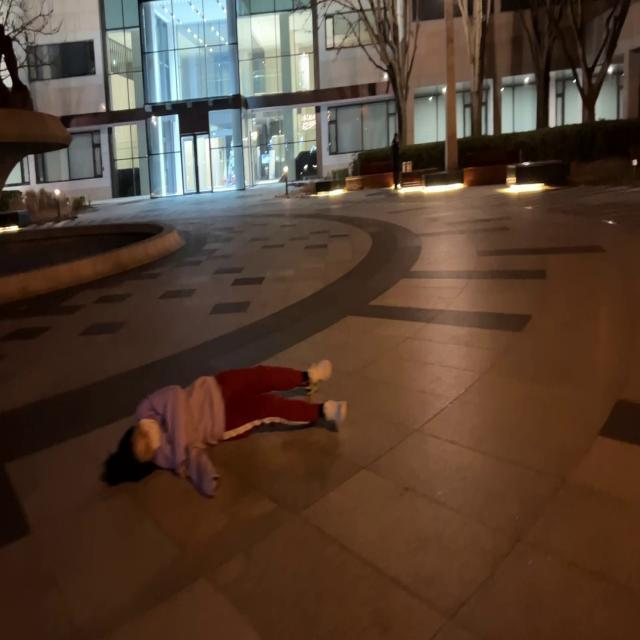Fall: (102, 360, 347, 496)
